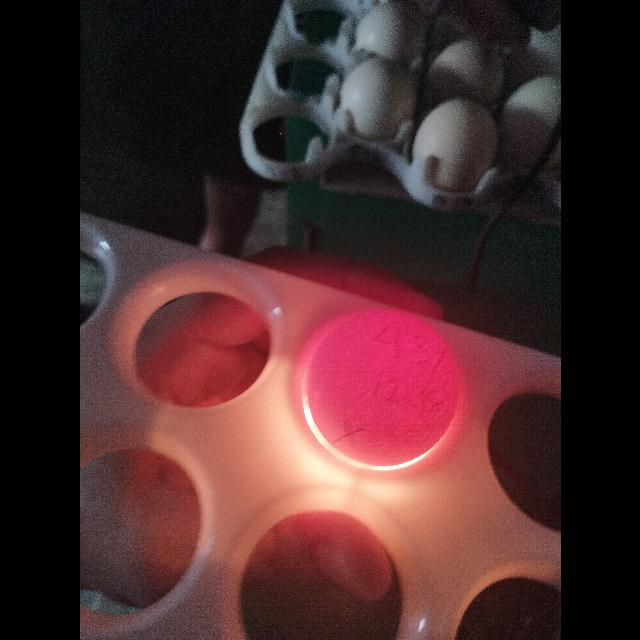Infertile: (303, 307, 462, 469)
